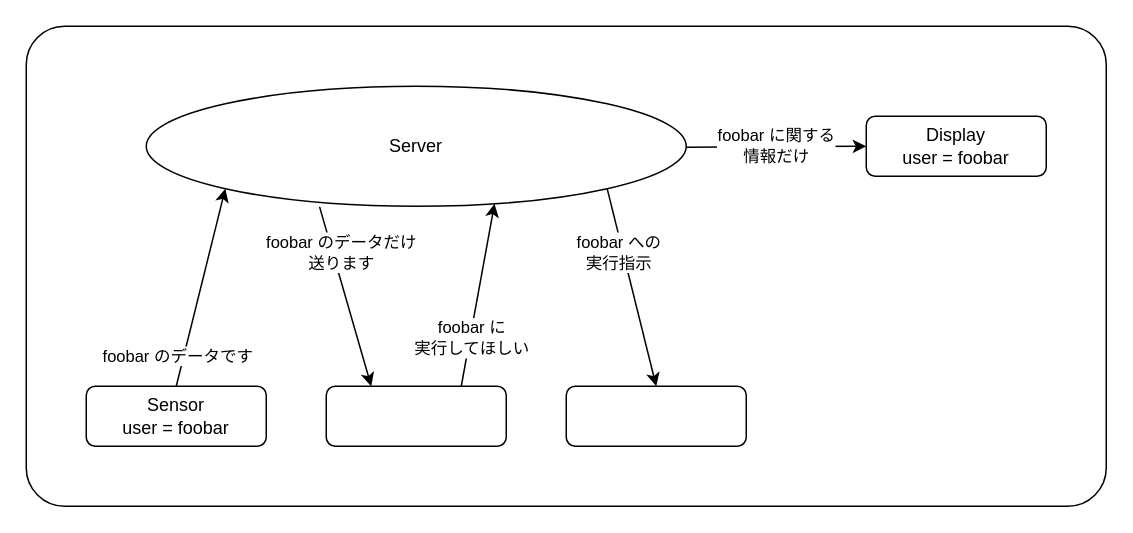
This 1133x533 diagram has some shape labels left out. The shapes that lost their labels are listed below. From the top down, each one's box as (x1, y1, x2, y2) in pixels, then its label:
(325, 385, 506, 446): Commander user = foobar
(565, 385, 746, 446): Executor user = foobar
